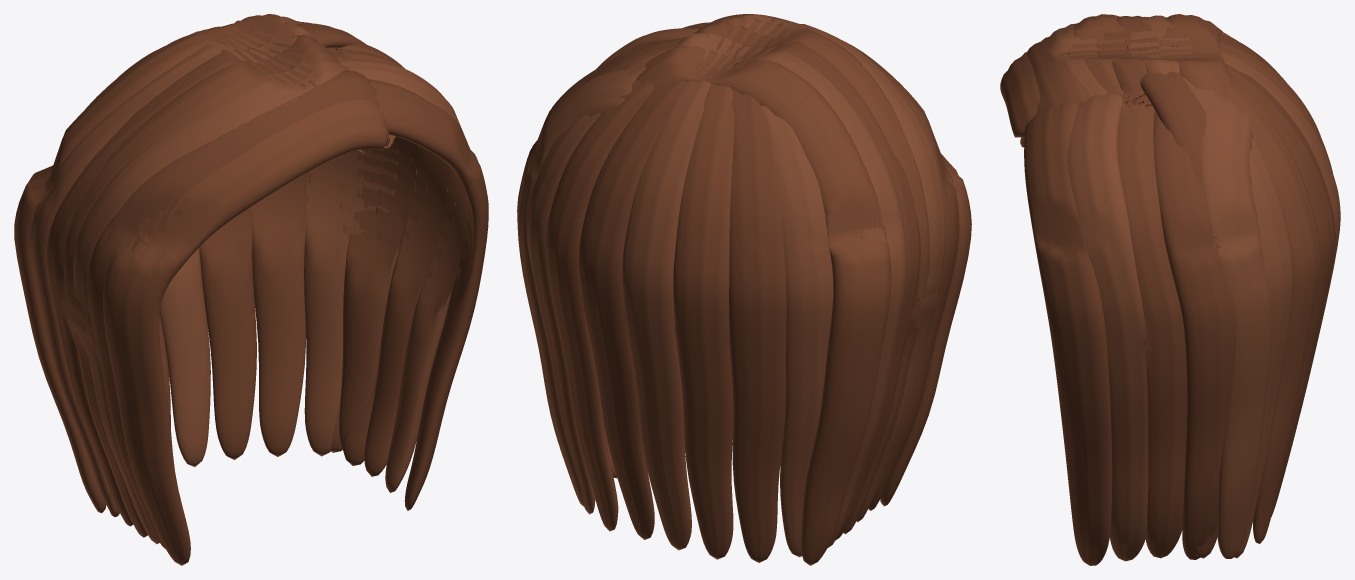
The model's file is Feminine-straight-cowboy252-hair.glb.
3 renders of one model, left to right at view 1: azimuth 30°, elevation 25°; view 2: azimuth 150°, elevation 25°; view 3: azimuth 270°, elevation 25°, orthographic.
Parts seen in each view (by area): view 1: 226 hair / Hair / sculpted 0.001, 226 hair / Hair / sculpted 1.002, 226 hair / Hair / sculpted 2.001; view 2: 226 hair / Hair / sculpted 0.001, 226 hair / Hair / sculpted 2.001, 226 hair / Hair / sculpted 1.002; view 3: 226 hair / Hair / sculpted 1.002, 226 hair / Hair / sculpted 2.001, 226 hair / Hair / sculpted 0.001.
Part boxes in pixels (x1,y1,x2,y2): 226 hair / Hair / sculpted 0.001: [14, 14, 455, 565]; 226 hair / Hair / sculpted 1.002: [46, 23, 488, 548]; 226 hair / Hair / sculpted 2.001: [30, 21, 471, 543]; 226 hair / Hair / sculpted 0.001: [545, 16, 971, 565]; 226 hair / Hair / sculpted 2.001: [517, 14, 945, 557]; 226 hair / Hair / sculpted 1.002: [517, 14, 959, 562]; 226 hair / Hair / sculpted 1.002: [1024, 15, 1335, 565]; 226 hair / Hair / sculpted 2.001: [1045, 15, 1340, 561]; 226 hair / Hair / sculpted 0.001: [1000, 14, 1332, 558].
Bounding box in the file's own units: 1.02 × 1.19 × 0.7803.
